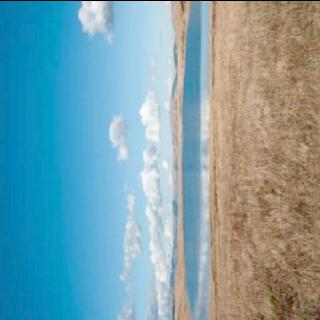Cirrocumulus: (77, 0, 172, 320)
